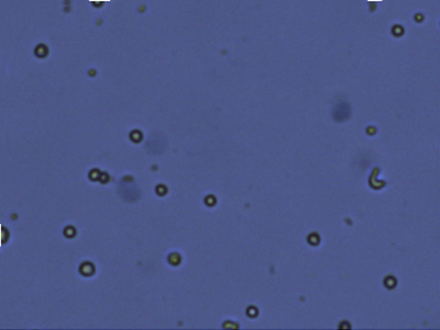A: (389, 20, 408, 39), (77, 260, 96, 278), (218, 316, 240, 330), (61, 222, 79, 239), (84, 166, 102, 183), (381, 274, 399, 291), (32, 41, 50, 57), (1, 223, 12, 249), (127, 127, 144, 143), (96, 169, 112, 186), (152, 182, 169, 198), (243, 301, 259, 318), (166, 249, 182, 265), (202, 192, 218, 208), (305, 229, 321, 245), (337, 316, 352, 330), (87, 1, 107, 11), (363, 124, 378, 137), (413, 10, 425, 24), (86, 67, 97, 77)
D: (366, 1, 379, 15)
